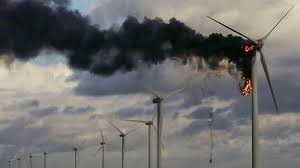faulty: (185, 21, 281, 103)
